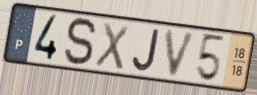4: (32, 12, 60, 64)
5: (193, 32, 228, 83)
J: (130, 27, 162, 73)
S: (63, 15, 99, 68)
V: (164, 28, 199, 80)
X: (92, 20, 131, 73)
